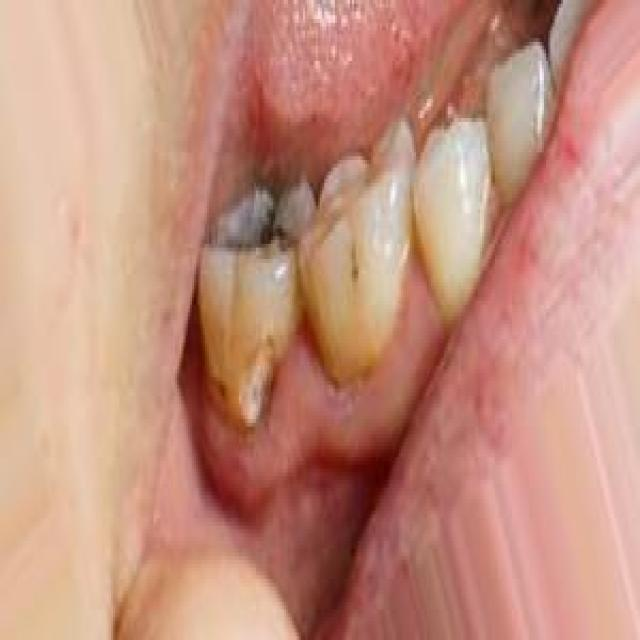caries: (218, 312, 288, 434), (218, 188, 300, 283)
